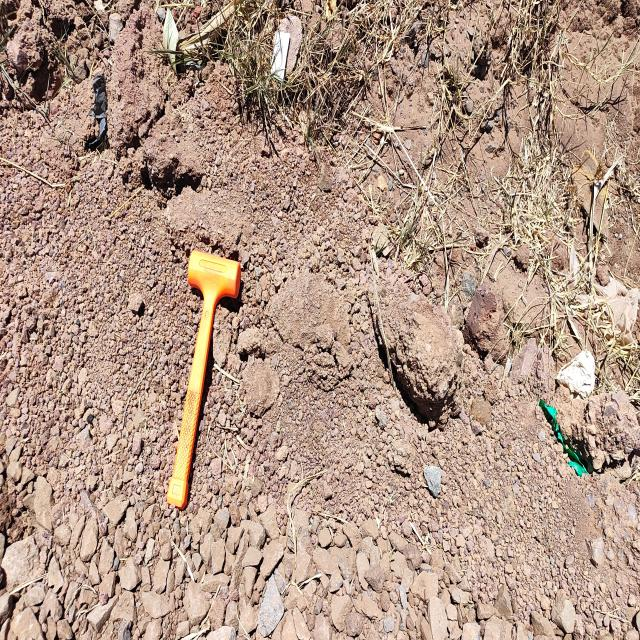Orange_hammer: (166, 248, 241, 511)
